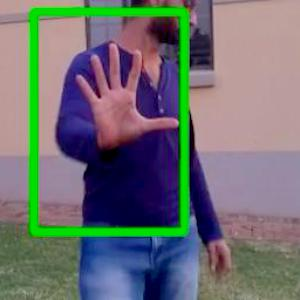follow_hand: (67, 36, 180, 150)
